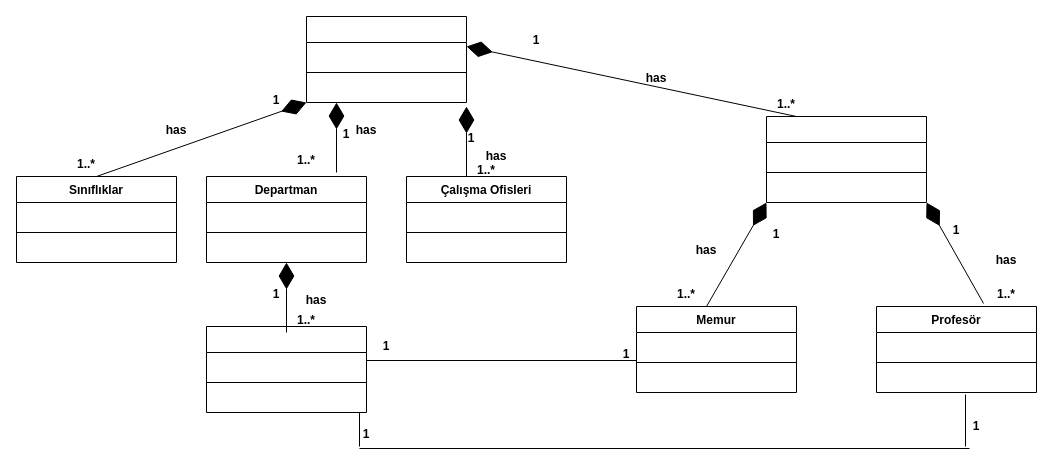
This 1063x465 diagram has some shape labels left out. The centre of each missing label's shape, as x and y in pixels:
"Ofis" goes at [286,369].
"Çalışan" goes at [846,159].
"Üniversite" goes at [386,59].
